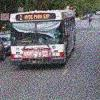buses: (8, 9, 75, 68)
